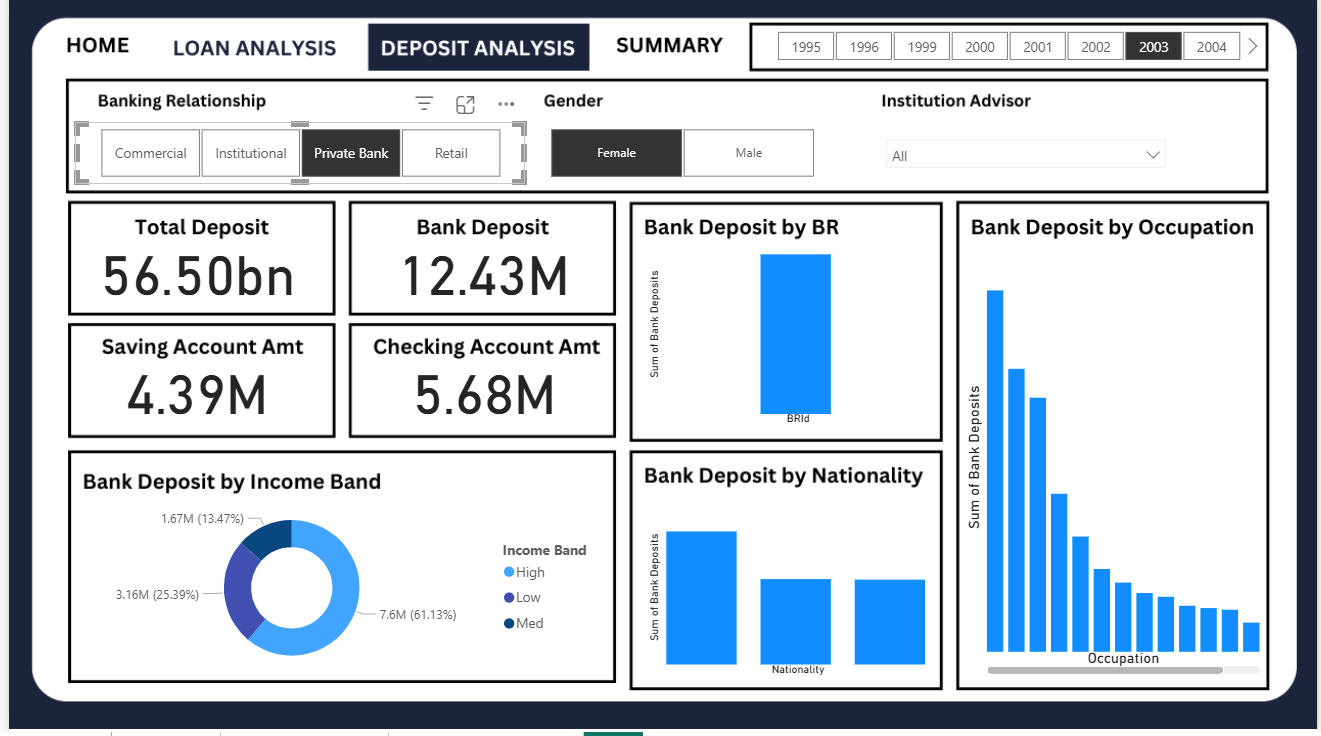

What the dashboard file says about the page in this screenshot:
{"tool":"powerbi","page":{"name":"Deposit Analysis","canvas":[1280,720],"ordinal":2},"visuals":[{"type":"card","fields":{"Values":["Sum(banking_case customer.Total Deposit)"]},"box":[33.3,215,300,101.7],"z":0},{"type":"card","fields":{"Values":["Sum(banking_case customer.Saving Accounts)"]},"box":[33.3,331.7,300,101.7],"z":1},{"type":"card","fields":{"Values":["Sum(banking_case customer.Bank Deposits)"]},"box":[313.3,215,300,101.7],"z":2},{"type":"card","fields":{"Values":["Sum(banking_case customer.Checking Accounts)"]},"box":[313.3,331.7,300,101.7],"z":3},{"type":"donutChart","fields":{"Category":["banking_case customer.Income Band"],"Y":["Sum(banking_case customer.Bank Deposits)"]},"box":[65,488.3,523.3,180],"z":4},{"type":"clusteredColumnChart","fields":{"Category":["banking_case customer.BRId"],"Y":["Sum(banking_case customer.Bank Deposits)"]},"box":[620,218.3,285,205],"z":5},{"type":"clusteredColumnChart","fields":{"Category":["banking_case customer.Nationality"],"Y":["Sum(banking_case customer.Bank Deposits)"]},"box":[620,488.3,285,180],"z":6},{"type":"clusteredColumnChart","fields":{"Category":["banking_case customer.Occupation"],"Y":["Sum(banking_case customer.Bank Deposits)"]},"box":[930,246.7,298.3,421.7],"z":7},{"type":"slicer","fields":{"Values":["banking_case customer.BRId"]},"box":[65,123.3,440,60],"z":8},{"type":"slicer","fields":{"Values":["banking_case customer.GenderId"]},"box":[505,123.3,306.7,60],"z":9},{"type":"slicer","fields":{"Values":["banking_case customer.IAId"]},"box":[848.9,130,293.3,46.7],"z":10},{"type":"slicer","fields":{"Values":["banking_case customer.Year of Joining"]},"box":[726.7,28.3,501.7,41.7],"z":11},{"type":"actionButton","box":[150,28.3,183.3,41.7],"z":12},{"type":"actionButton","box":[48.3,23.3,78.3,46.7],"z":13}]}

Visuals, with their boxes in screenshot pixels (x1, y1, x2, y2), scaled from the page's 1280x720 canvas onto the 1321x736 screenshot:
card - Sum(banking_case customer.Total Deposit): [x1=34, y1=220, x2=344, y2=324]
card - Sum(banking_case customer.Saving Accounts): [x1=34, y1=339, x2=344, y2=443]
card - Sum(banking_case customer.Bank Deposits): [x1=323, y1=220, x2=633, y2=324]
card - Sum(banking_case customer.Checking Accounts): [x1=323, y1=339, x2=633, y2=443]
donutChart - banking_case customer.Income Band x Sum(banking_case customer.Bank Deposits): [x1=67, y1=499, x2=607, y2=683]
clusteredColumnChart - banking_case customer.BRId x Sum(banking_case customer.Bank Deposits): [x1=640, y1=223, x2=934, y2=433]
clusteredColumnChart - banking_case customer.Nationality x Sum(banking_case customer.Bank Deposits): [x1=640, y1=499, x2=934, y2=683]
clusteredColumnChart - banking_case customer.Occupation x Sum(banking_case customer.Bank Deposits): [x1=960, y1=252, x2=1268, y2=683]
slicer - banking_case customer.BRId: [x1=67, y1=126, x2=521, y2=187]
slicer - banking_case customer.GenderId: [x1=521, y1=126, x2=838, y2=187]
slicer - banking_case customer.IAId: [x1=876, y1=133, x2=1179, y2=181]
slicer - banking_case customer.Year of Joining: [x1=750, y1=29, x2=1268, y2=72]
actionButton: [x1=155, y1=29, x2=344, y2=72]
actionButton: [x1=50, y1=24, x2=131, y2=72]
